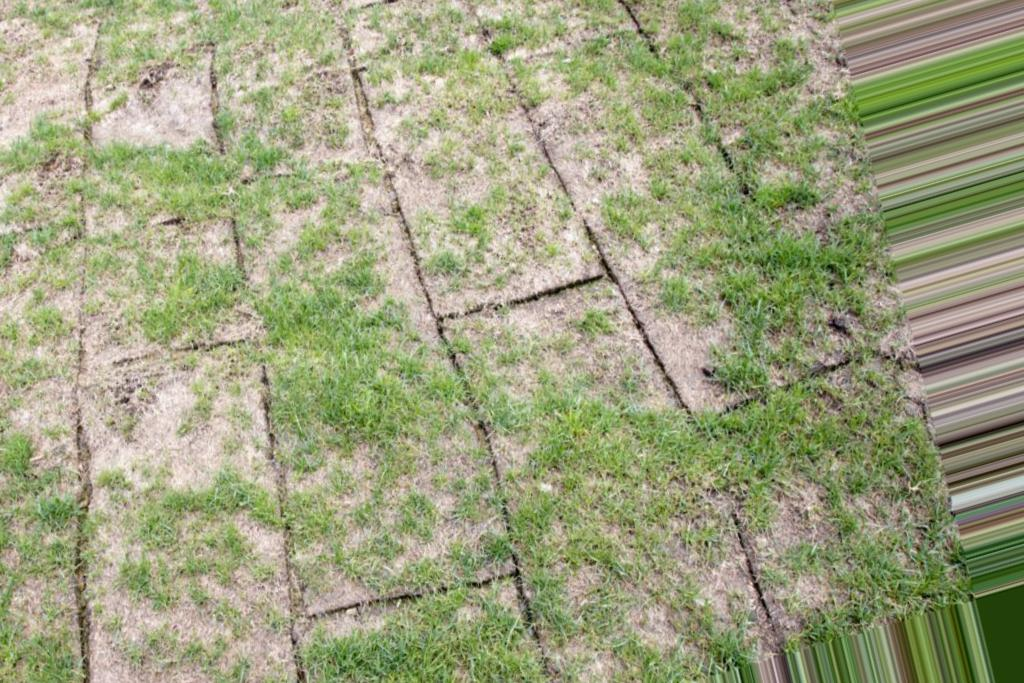patch: (83, 367, 268, 666), (609, 533, 829, 644), (386, 125, 528, 296), (105, 83, 213, 223), (651, 295, 721, 425), (2, 26, 70, 139)
